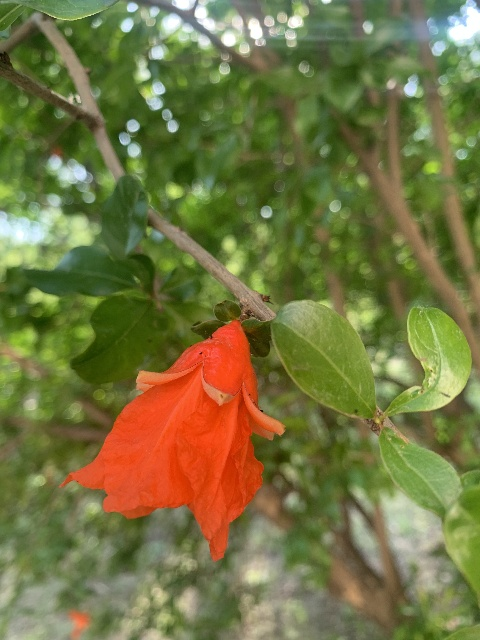flower: (60, 319, 284, 562)
